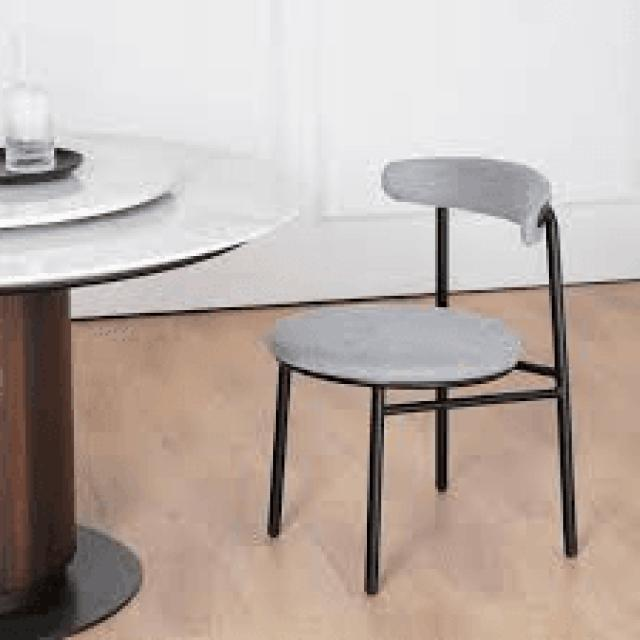chair: (263, 150, 582, 598), (264, 154, 550, 390)
